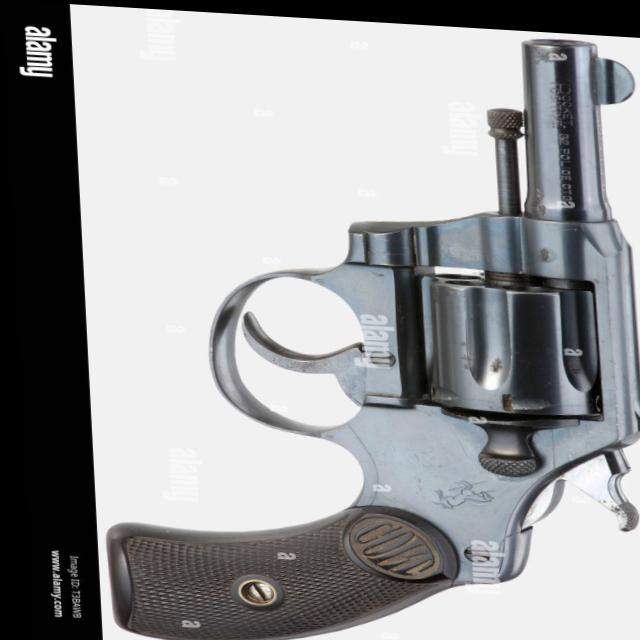handgun: (84, 8, 640, 640)
